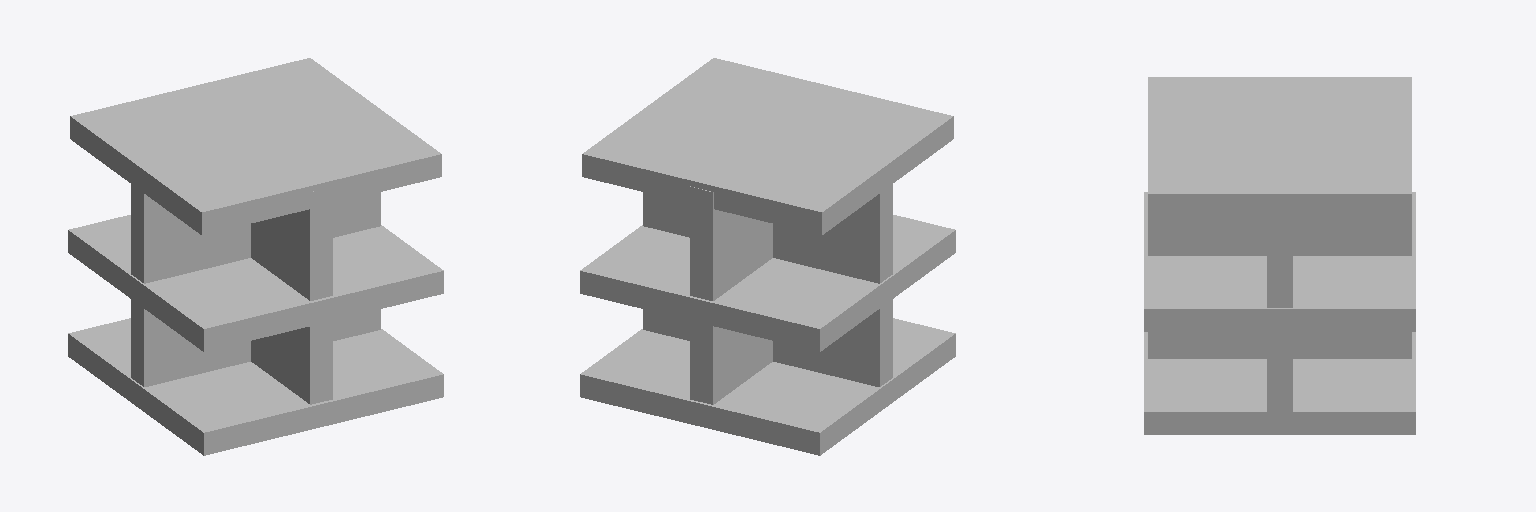
File: shelf.obj
The picture shows the model from 3 angles: view 1: azimuth 30°, elevation 25°; view 2: azimuth 150°, elevation 25°; view 3: azimuth 270°, elevation 25°; orthographic projection.
Visible parts, largest first — view 1: Cube.002_Cube.003, Cube_Cube.001, Cube.001_Cube.002, Cube.004_Cube.005, Cube.003_Cube.004; view 2: Cube.002_Cube.003, Cube_Cube.001, Cube.001_Cube.002, Cube.004_Cube.005, Cube.003_Cube.004; view 3: Cube.002_Cube.003, Cube.001_Cube.002, Cube_Cube.001, Cube.003_Cube.004, Cube.004_Cube.005.
Part boxes in pixels (x1,y1,x2,y2): Cube.002_Cube.003: (70, 58, 441, 234); Cube_Cube.001: (68, 318, 443, 455); Cube.001_Cube.002: (68, 215, 443, 351); Cube.004_Cube.005: (131, 184, 380, 386); Cube.003_Cube.004: (251, 187, 332, 404); Cube.002_Cube.003: (582, 58, 953, 234); Cube_Cube.001: (580, 318, 955, 455); Cube.001_Cube.002: (580, 215, 955, 351); Cube.004_Cube.005: (643, 184, 892, 386); Cube.003_Cube.004: (690, 186, 772, 404); Cube.002_Cube.003: (1148, 77, 1411, 216); Cube.001_Cube.002: (1144, 192, 1415, 331); Cube_Cube.001: (1144, 332, 1415, 434); Cube.003_Cube.004: (1148, 217, 1411, 358); Cube.004_Cube.005: (1267, 217, 1292, 411).
Bounding box in the file's own units: 1.02 × 0.9799 × 0.9987.